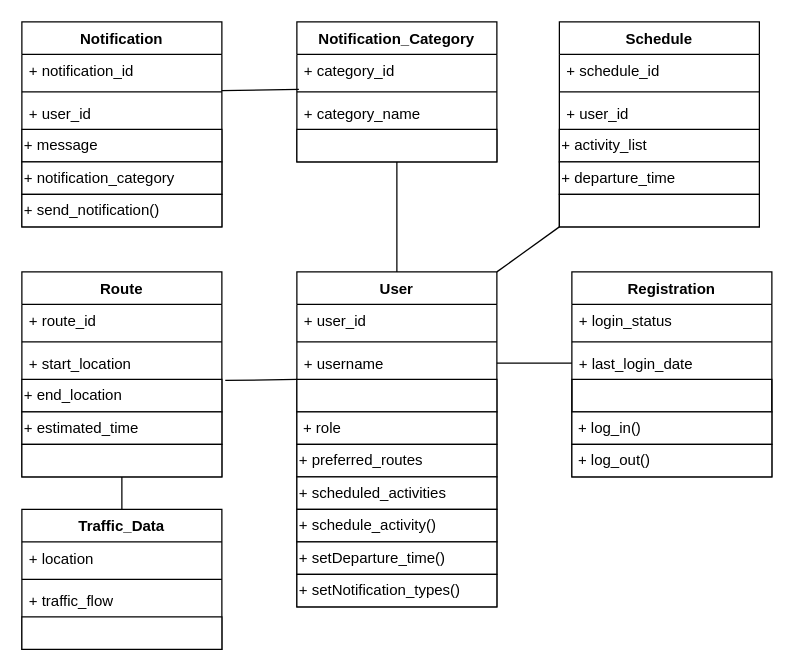
Image size: 794x671. Some labels were removed from this diagram. The shapes that lost their labels are listed below. From the top down, each one's centre as x and y in pixels, then its label:
At (x=396, y=145): "+ add_category()".
At (x=658, y=210): "+ add_activity()".
At (x=396, y=395): "+ password".
At (x=671, y=395): "+ user_commute_info".
At (x=121, y=460): "+ suggest_route()".
At (x=121, y=632): "+ predict_traffic()".
